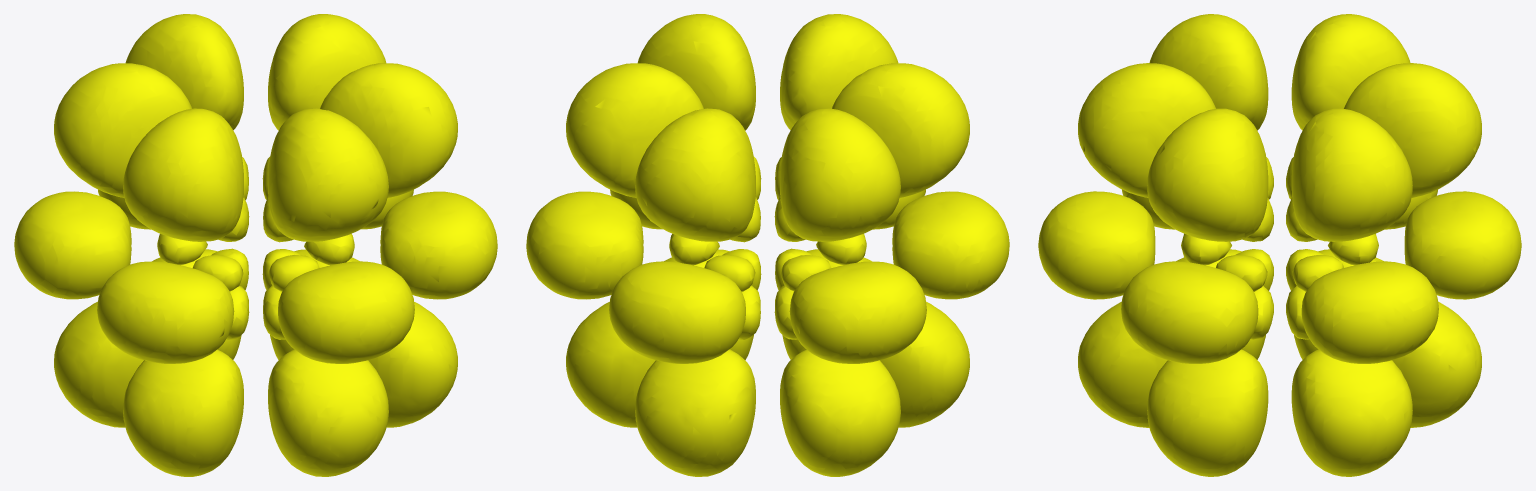
The model's file is orb_n=7_ l=5 _m=-3.fbx.
3 renders of one model, left to right at view 1: azimuth 30°, elevation 25°; view 2: azimuth 150°, elevation 25°; view 3: azimuth 270°, elevation 25°, orthographic.
Parts seen in each view (by area): view 1: orb_n=7_ l=5 _m=-3; view 2: orb_n=7_ l=5 _m=-3; view 3: orb_n=7_ l=5 _m=-3.
Part boxes in pixels (x1=…): orb_n=7_ l=5 _m=-3: x1=14, y1=14, x2=497, y2=476; orb_n=7_ l=5 _m=-3: x1=526, y1=14, x2=1009, y2=476; orb_n=7_ l=5 _m=-3: x1=1038, y1=14, x2=1521, y2=476.
Size of the model in its own units: 16577 by 14774 by 18173.
